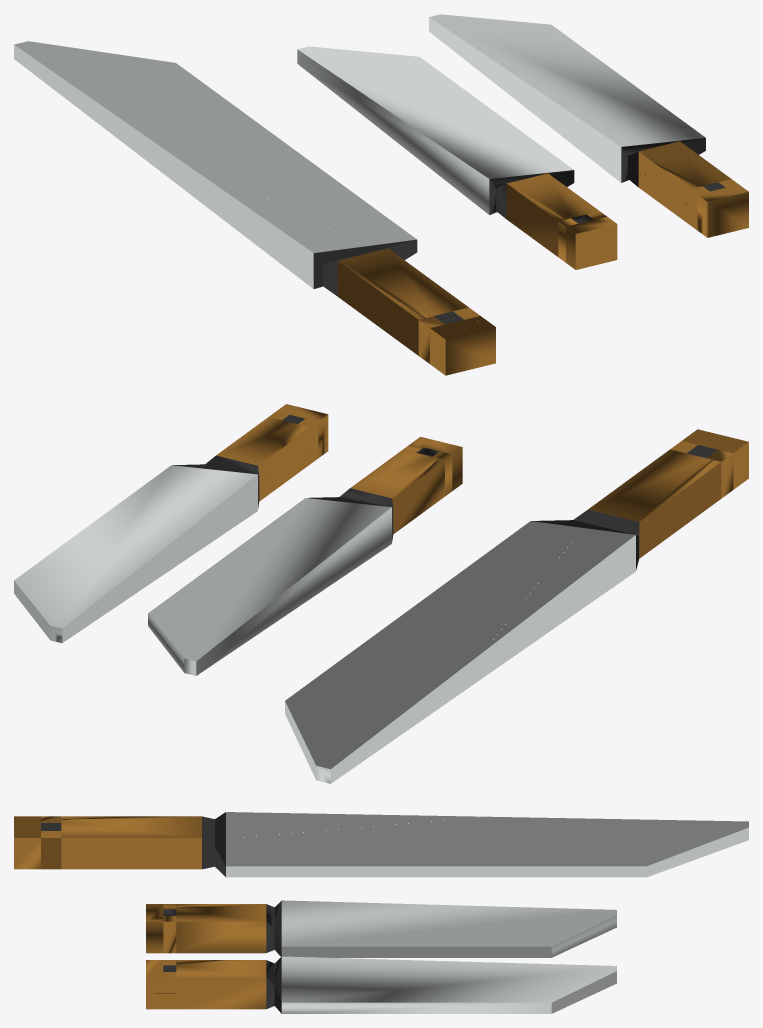
File: knives_v01.fbx
The picture shows the model from 3 angles, top to bottom: view 1: azimuth 30°, elevation 25°; view 2: azimuth 150°, elevation 25°; view 3: azimuth 270°, elevation 25°; orthographic projection. The views are drawn at different scales.
Parts seen in each view (by area): view 1: knife_1; view 2: knife_1; view 3: knife_1.
Boxes of the visible parts, <box> form: knife_1: <box>14,14,748,375</box>; knife_1: <box>14,404,748,783</box>; knife_1: <box>14,812,748,1013</box>.
Size of the model in its own units: 22.09 by 1.8 by 37.99.
